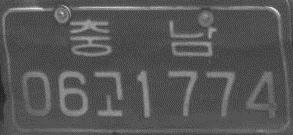0: (21, 70, 52, 118)
1: (130, 69, 159, 119)
4: (244, 70, 280, 118)
6: (57, 69, 88, 118)
7: (166, 69, 198, 117), (206, 70, 236, 117)
고: (93, 70, 124, 118)
충남_D: (68, 17, 216, 58)
